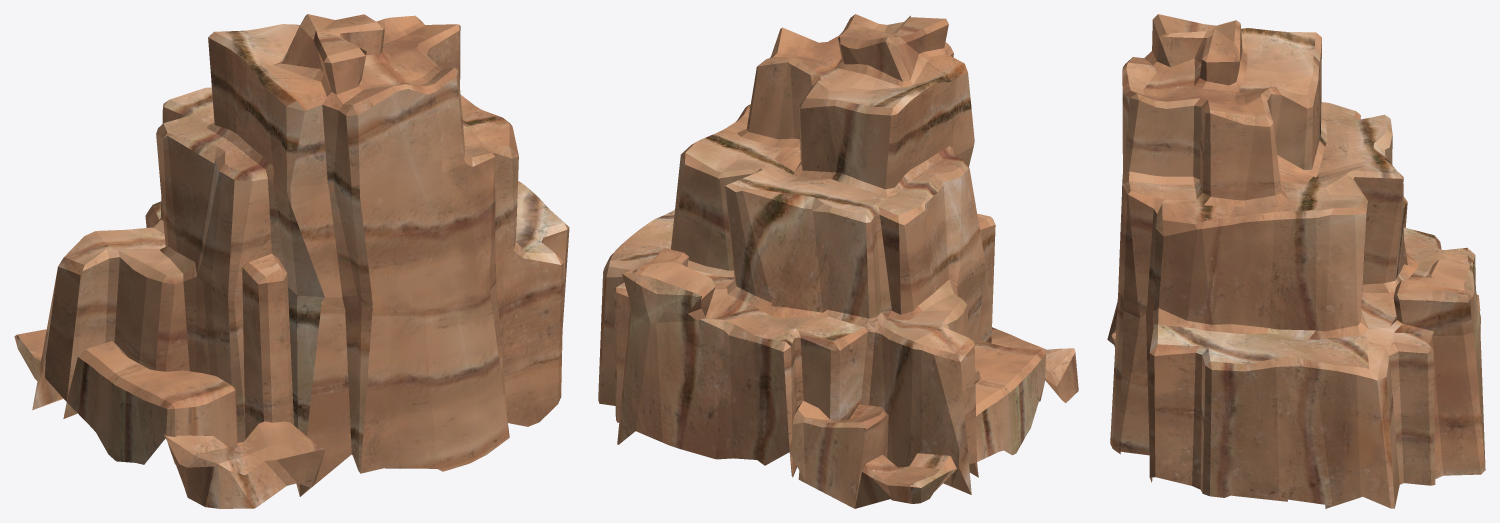
Rendered from rock-cliff.fbx.
3 views of the same model, side by side, from view 1: azimuth 30°, elevation 25°; view 2: azimuth 150°, elevation 25°; view 3: azimuth 270°, elevation 25° (orthographic). The views are drawn at different scales.
Parts seen in each view (by area): view 1: Plane; view 2: Plane; view 3: Plane.
Boxes of the visible parts, <box> form: Plane: <box>14,14,569,508</box>; Plane: <box>598,14,1078,508</box>; Plane: <box>1107,14,1485,508</box>.
Bounding box in the file's own units: 608 × 581 × 498.
